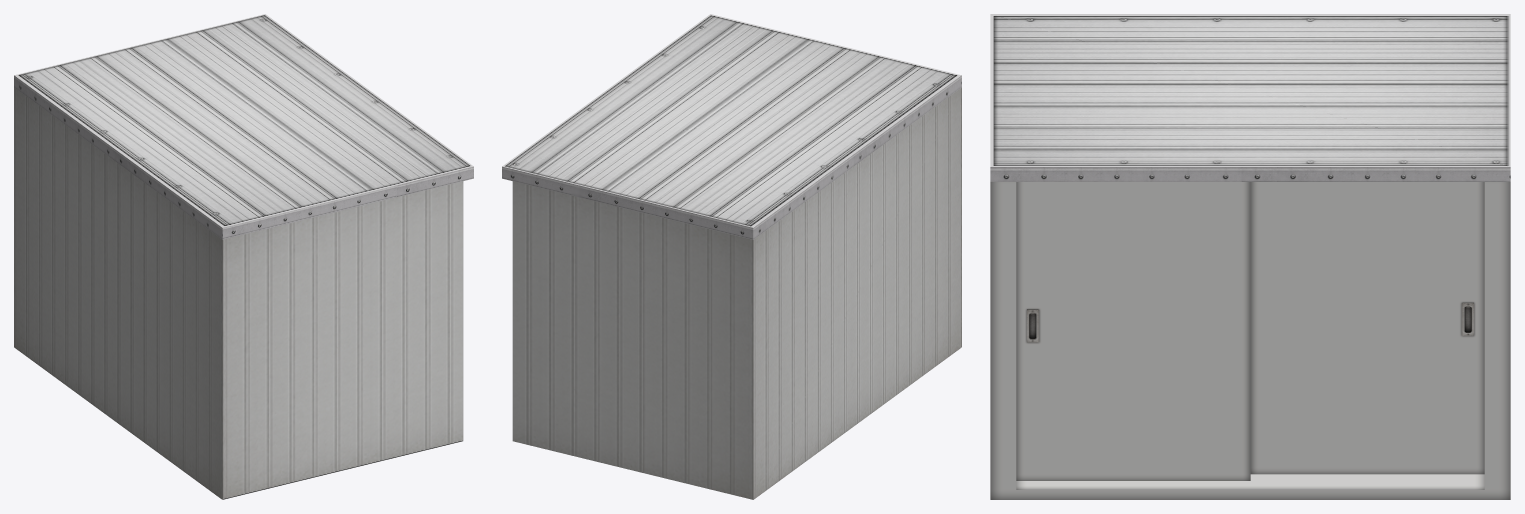
3 views of the same model, side by side, from view 1: azimuth 30°, elevation 25°; view 2: azimuth 150°, elevation 25°; view 3: azimuth 270°, elevation 25° (orthographic). The views are drawn at different scales.
Parts seen in each view (by area): view 1: Body, Roof; view 2: Body, Roof; view 3: Roof, DoorL, DoorR, Body.
Part boxes in pixels (x1,y1,x2,y2): Body: [14, 87, 463, 499]; Roof: [14, 14, 473, 239]; Body: [512, 87, 961, 499]; Roof: [502, 14, 961, 239]; Roof: [990, 14, 1510, 181]; DoorL: [1016, 182, 1250, 480]; DoorR: [1250, 182, 1484, 474]; Body: [990, 182, 1510, 499].
Size of the model in its own units: 2.09 by 2.16 by 3.
Materials: 3 (3 with a texture image).
